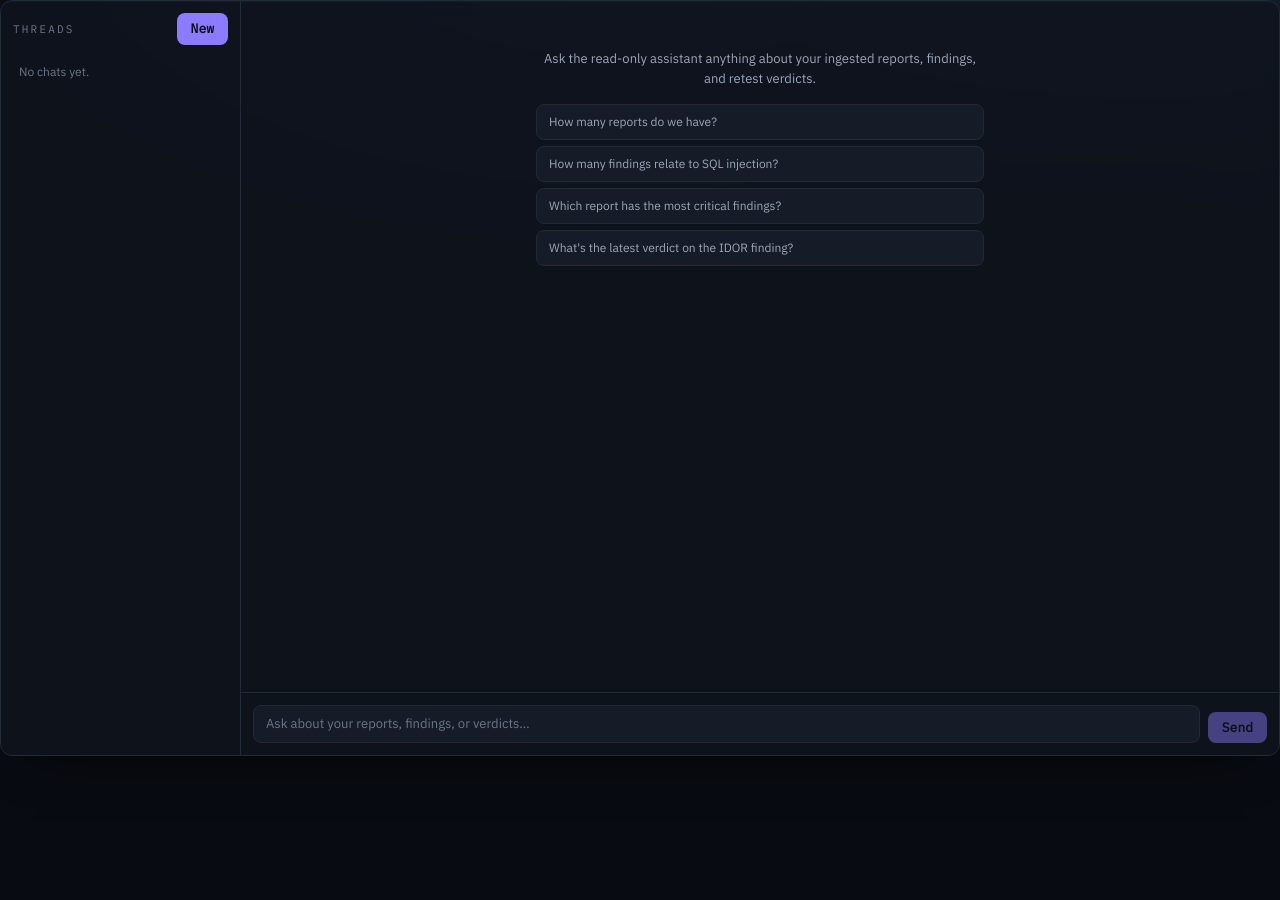
it: Chat › streams a typed question's reply token-by-token and shows it
Step 1. Type "how many criticals?" into the text box named "Ask about the reports" → [726, 724], box 253,705 -> 1200,743
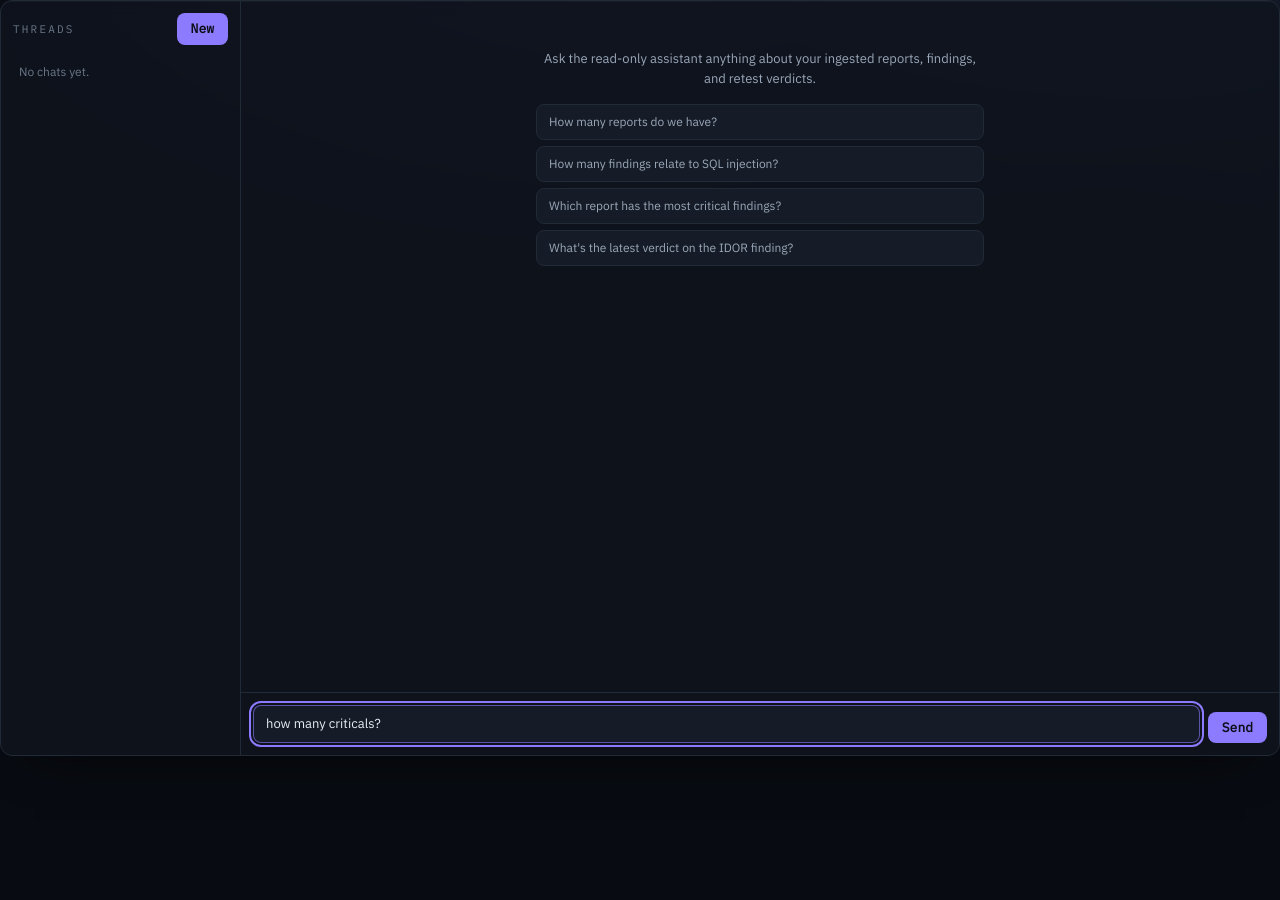
Step 2. Click the button "Send" → [1237, 727], box 1208,712 -> 1267,743
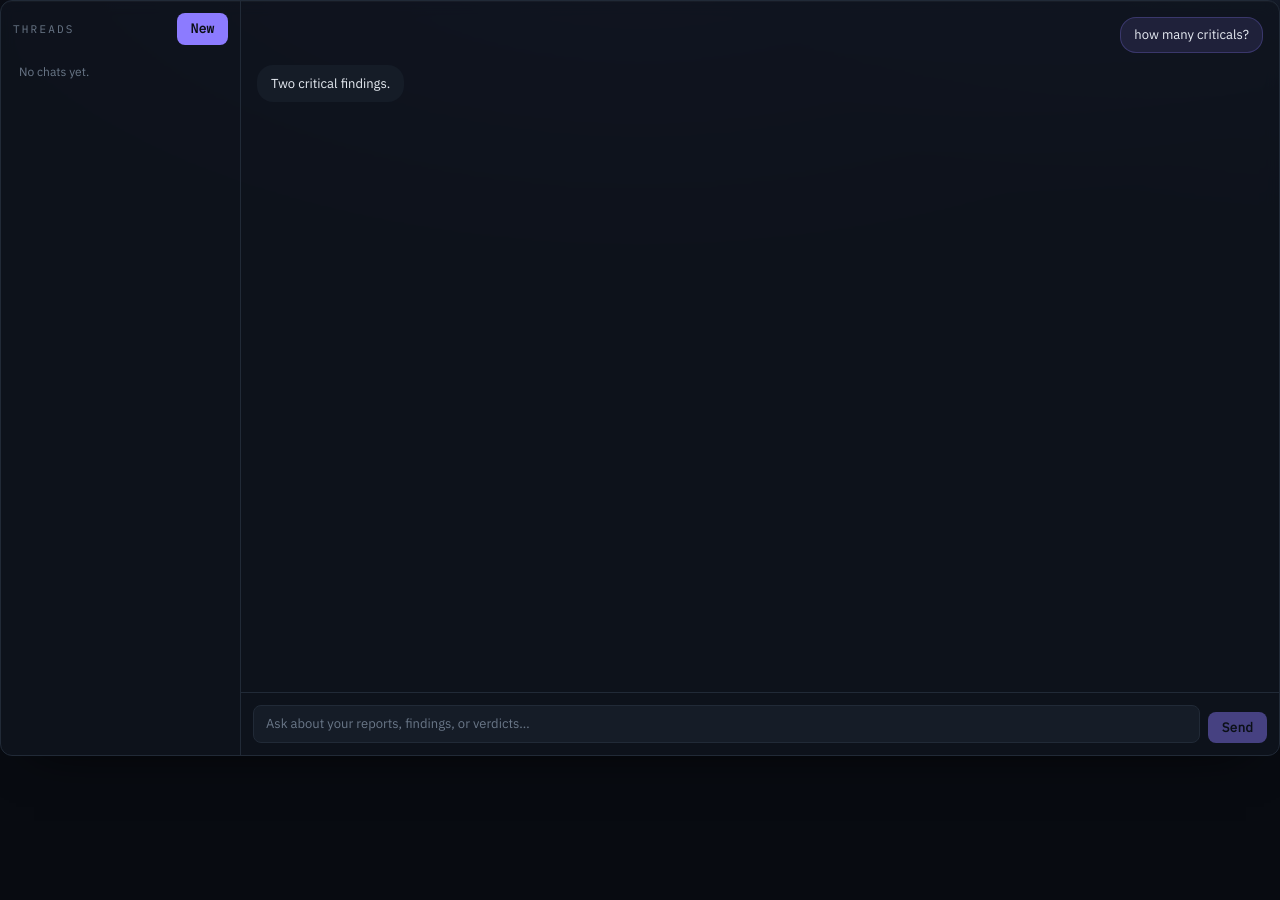
Expected: the text "how many criticals?" is shown, 1120,17 -> 1263,52
Expected: the text "Two critical findings." is shown, 257,64 -> 404,102
